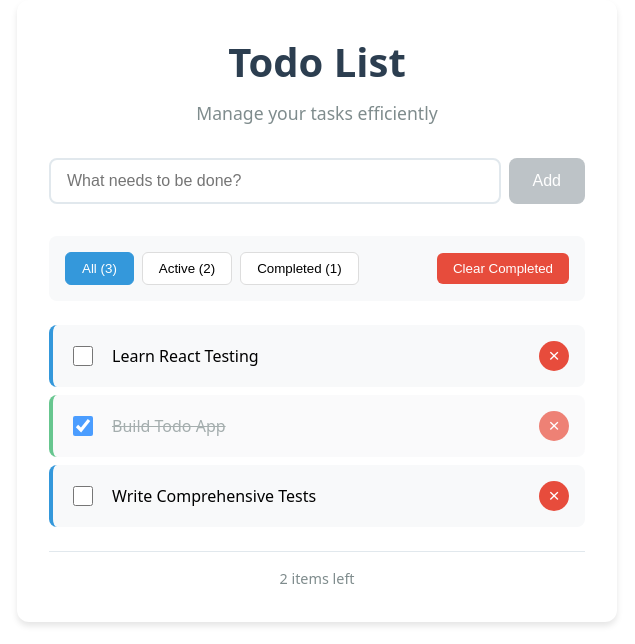
Test: TodoList Component › clears completed todos
Expected: the button with test id "filter-completed" reads "Completed (1)", [240, 252, 359, 285]
// Clear completed
Step 1. Click the button with test id "clear-completed" → (503, 269), box [437, 253, 569, 284]
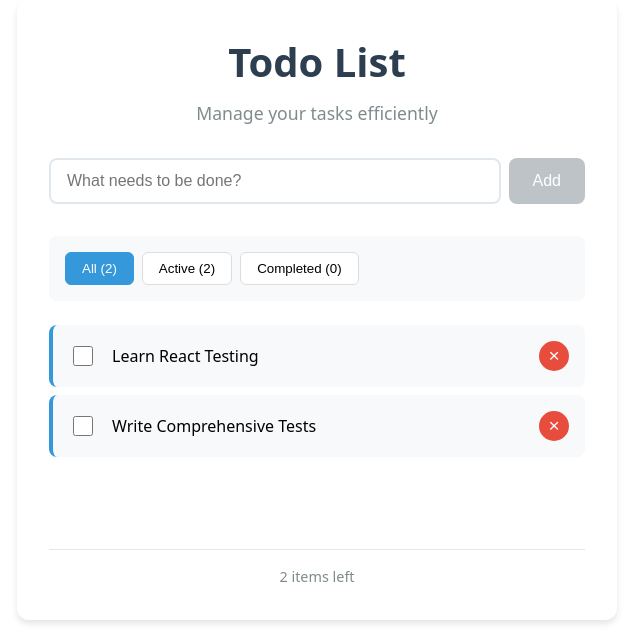
Now the button with test id "filter-completed" reads "Completed (0)", box [240, 252, 359, 285]
Now the number of list items is 2, box [49, 325, 585, 387]; [49, 395, 585, 457]
Now the text "Build Todo App" is gone
